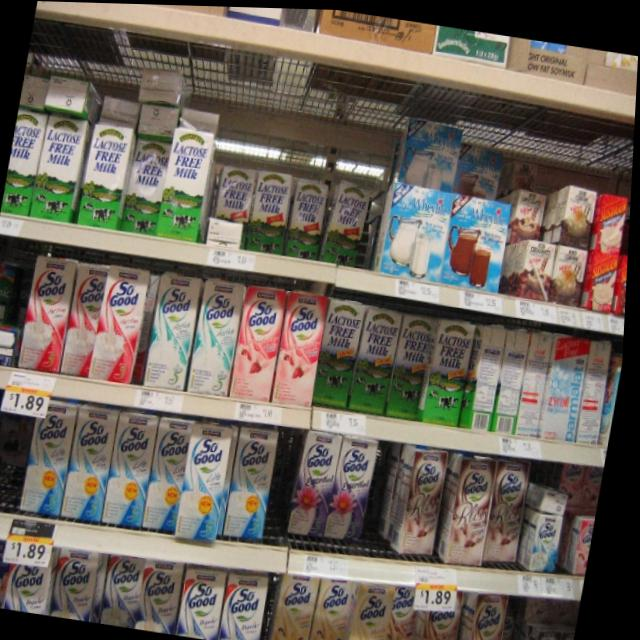q262: (56, 398, 133, 533), (140, 261, 213, 402), (178, 415, 241, 550), (15, 412, 84, 533), (105, 406, 166, 537), (223, 426, 280, 555), (142, 410, 200, 536)
